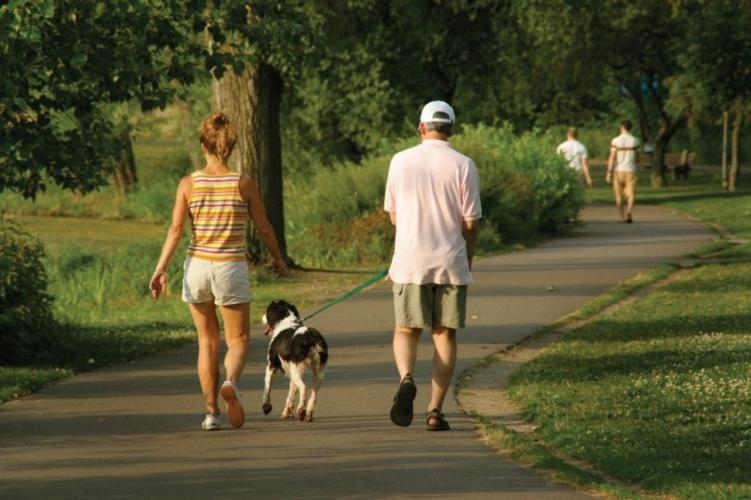person: (382, 102, 484, 433)
